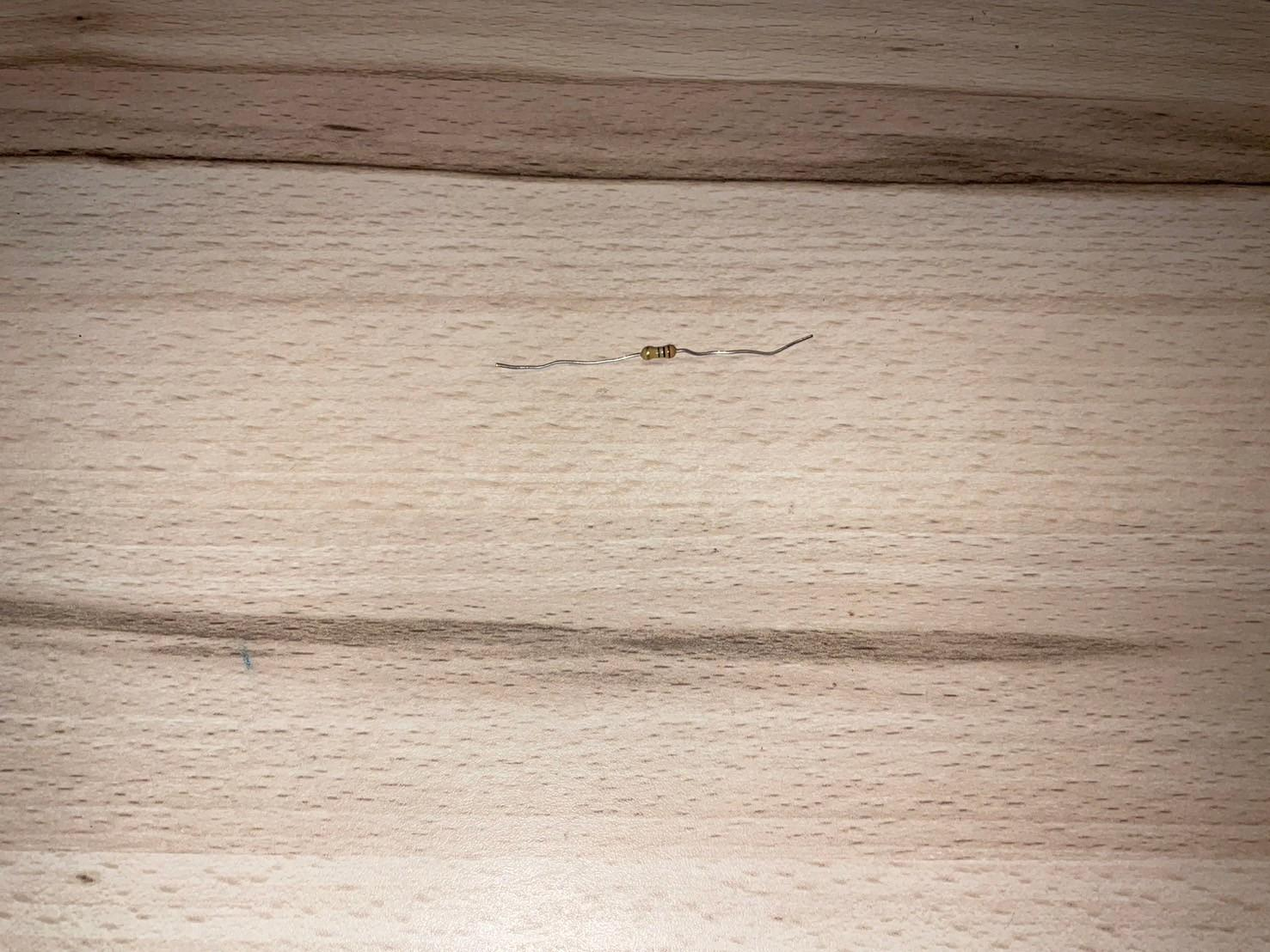resistor: (639, 344, 678, 360)
